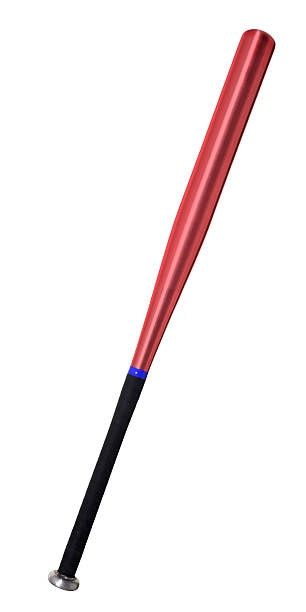bita: (43, 35, 272, 599)
